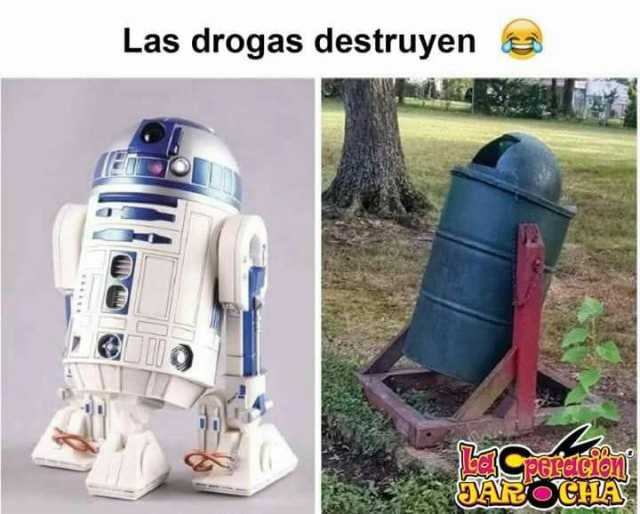r2d2: (37, 116, 296, 494)
